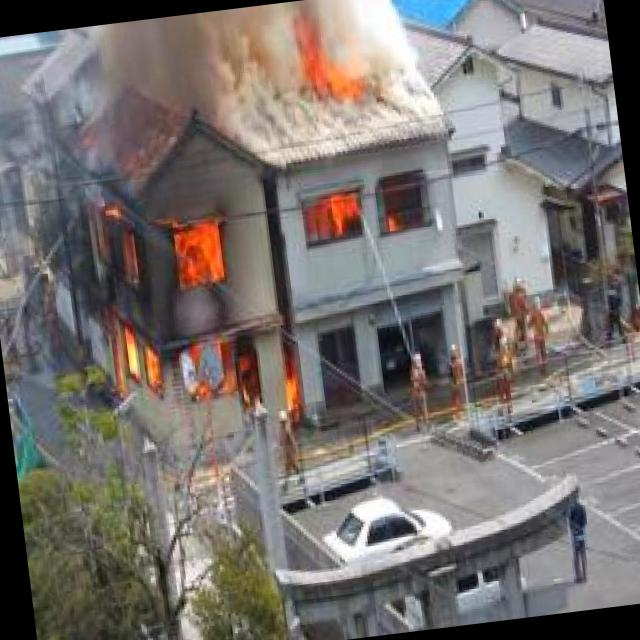Fire: (67, 160, 312, 452), (304, 192, 364, 246)
Smoke: (104, 0, 445, 183)
